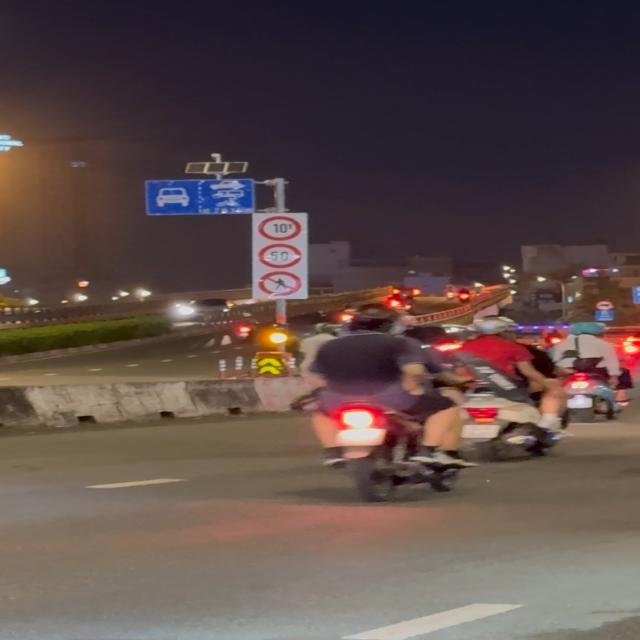Bien bao cam nguoi di bo: (256, 271, 304, 297)
Bien bao toc do toi da cho phep: (258, 243, 304, 271)
